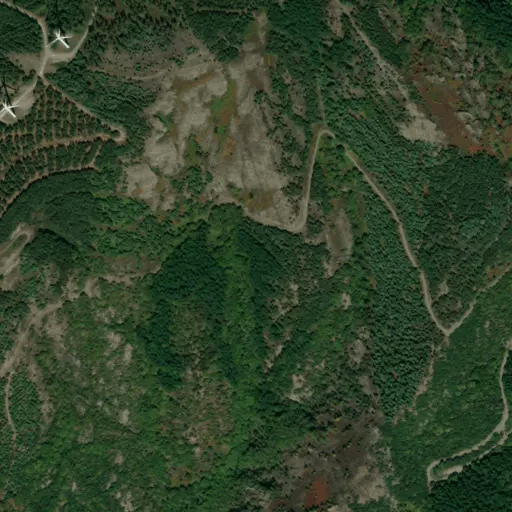wt: (44, 24, 76, 51), (1, 81, 20, 120)
